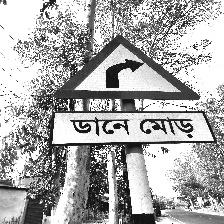Right-turn: (50, 35, 212, 147)
